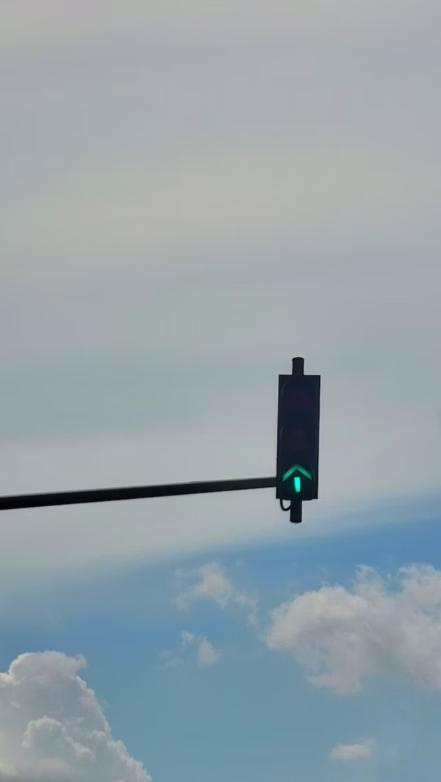green_light: (276, 373, 320, 500)
